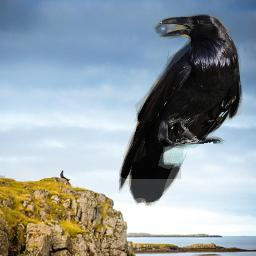Crow: (119, 14, 243, 206)
